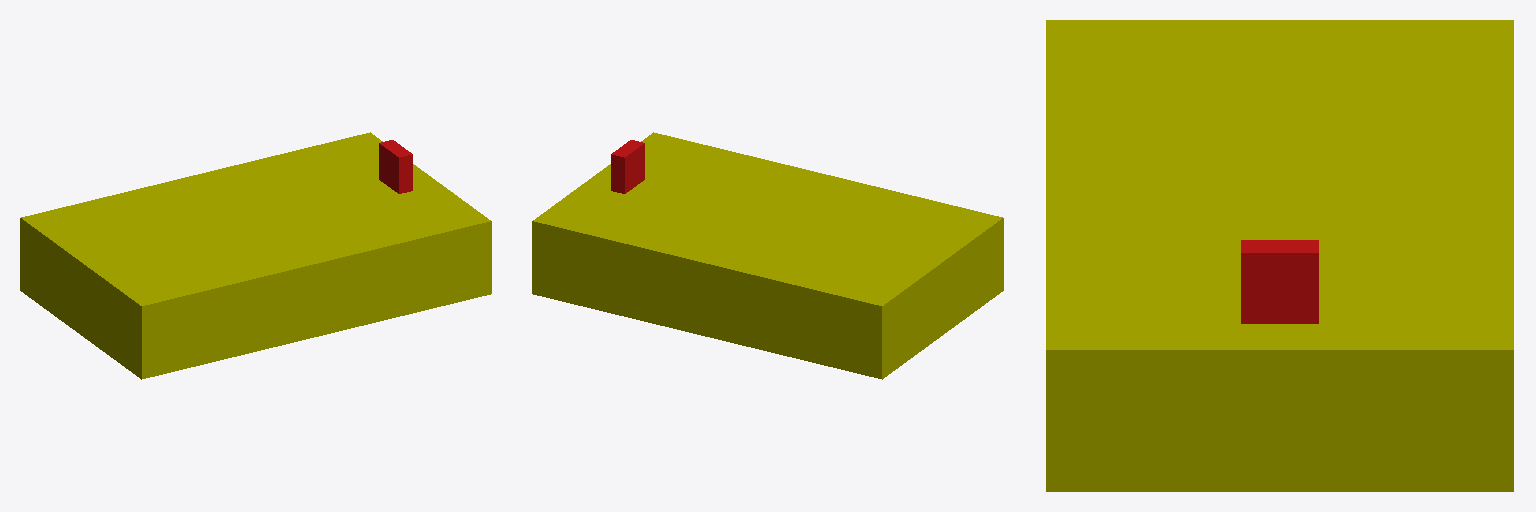
robot.urdf — base_footprint_demo:
<!-- 
    需求：为机器人模型添加 base_footprint

 -->
 <robot name="base_footprint_demo">
  <!-- 定义颜色 -->
  <material name="yellow">
    <color rgba="0.7 0.7 0 0.8" />
  </material>
  <material name="red">
    <color rgba="0.8 0.1 0.1 0.8" />
  </material>

  <link name="base_footprint">
    <visual>
      <geometry>
          <sphere radius="0.001"/>
      </geometry>
    </visual>
  </link>

  <link name="base_link">
    <visual>
        <!-- 形状 -->
        <geometry>
            <box size="0.5 0.3 0.1" />
        </geometry>
        <origin xyz="0 0 0" rpy="0 0 0" />
        <material name="yellow"/>
    </visual>
  </link>

  <joint name="baselink2basefootprint" type="fixed">
    <parent link="base_footprint"/>
    <child link="base_link"/>
    <origin xyz="0.0 0.0 0.05"/>
  </joint>

  <!-- 摄像头 -->
  <link name="camera">
      <visual>
          <geometry>
              <box size="0.02 0.05 0.05" />
          </geometry>
          <origin xyz="0 0 0" rpy="0 0 0" />
          <material name="red" />
      </visual>
  </link>

  <!-- 关节 -->
  <joint name="camera2baselink" type="fixed">
      <parent link="base_link"/>
      <child link="camera" />
      <!-- 需要计算两个 link 的物理中心之间的偏移量 -->
      <origin xyz="0.2 0 0.075" rpy="0 0 0" />
      <axis xyz="0 0 1" />
  </joint>

</robot>

--- Render facts (derived) ---
Views: 3 orthographic renders of the robot side by side, from view 1: azimuth 30°, elevation 25°; view 2: azimuth 150°, elevation 25°; view 3: azimuth 270°, elevation 25°.
Model base_footprint_demo with 3 links and 2 joints (2 fixed), rooted at base_footprint, posed all joints at 0.
Visible links, largest first — view 1: base_link, camera; view 2: base_link, camera; view 3: base_link, camera.
Boxes of the visible links, x1=… form: base_link: x1=20, y1=132, x2=491, y2=379; camera: x1=379, y1=140, x2=412, y2=193; base_link: x1=532, y1=132, x2=1003, y2=379; camera: x1=611, y1=140, x2=644, y2=193; base_link: x1=1046, y1=20, x2=1513, y2=491; camera: x1=1241, y1=240, x2=1318, y2=323.
Size in the robot's own frame: 0.5 by 0.3 by 0.151 metres.
Geometry: primitives only (box / cylinder / sphere), no mesh files.
